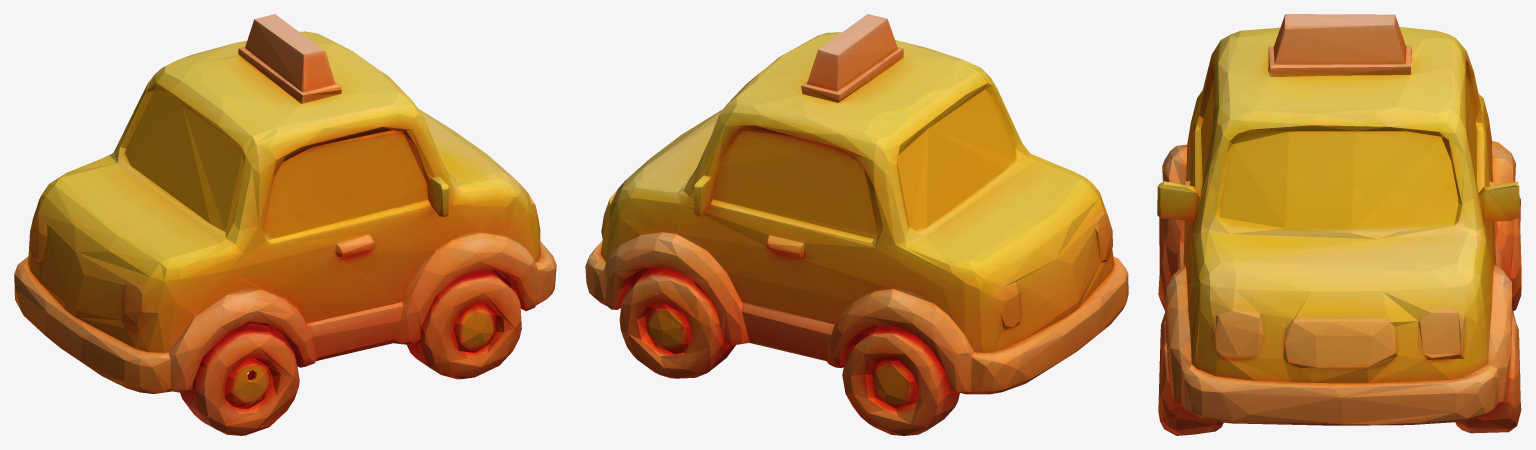
File: car-taxi.glb
The picture shows the model from 3 angles, left to right: view 1: azimuth 30°, elevation 25°; view 2: azimuth 150°, elevation 25°; view 3: azimuth 270°, elevation 25°; orthographic projection. The views are drawn at different scales.
Parts seen in each view (by area): view 1: geometry_0; view 2: geometry_0; view 3: geometry_0.
Boxes of the visible parts, x1,y1,x2,y2 form: geometry_0: (14, 14, 556, 435); geometry_0: (585, 14, 1128, 435); geometry_0: (1157, 14, 1521, 435).
Size of the model in its own units: 0.8533 by 0.5827 by 0.5443.
Materials: 1 (1 with a texture image).
